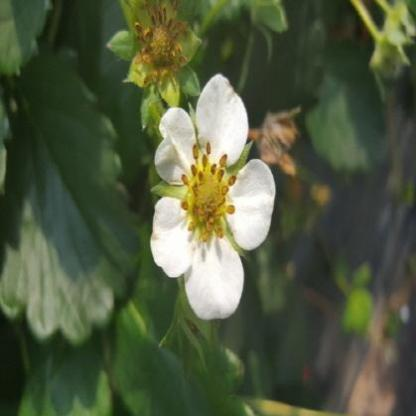Strawberry_Blossom_Blight: (177, 139, 242, 246), (129, 0, 192, 94)
